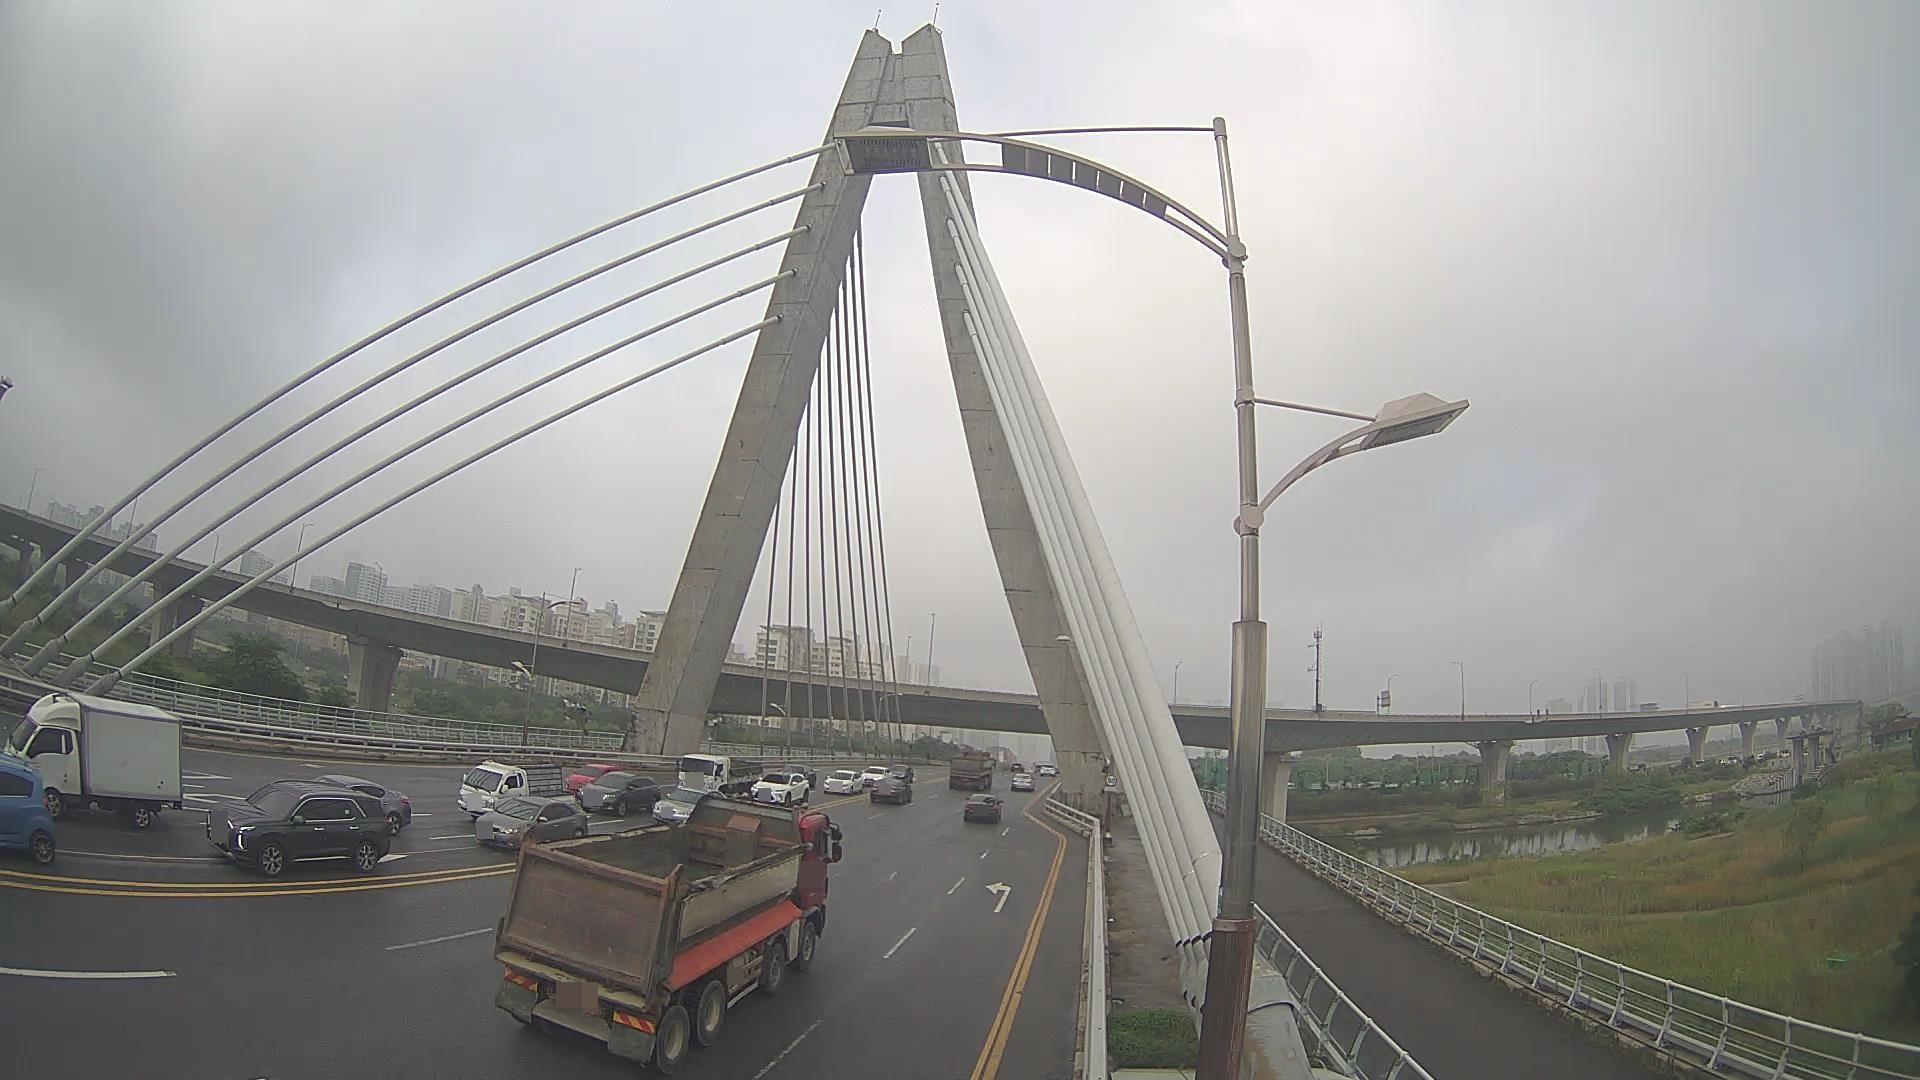정상차량: (495, 795, 843, 1076)
